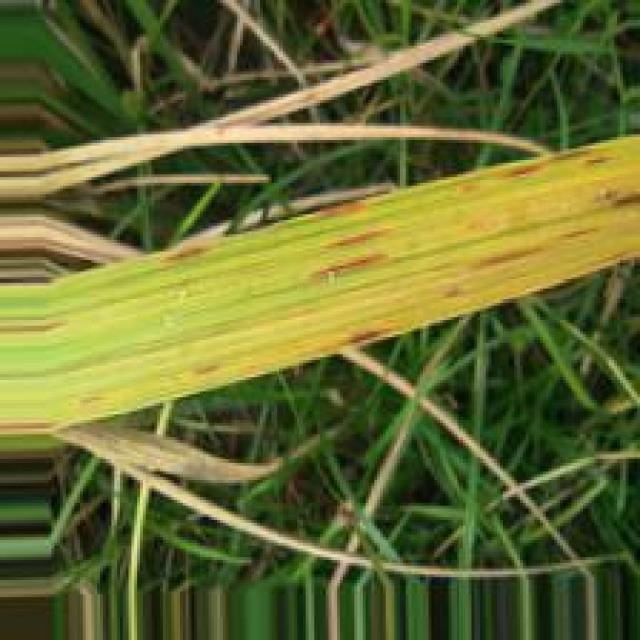Narrow_Brown_Leaf_Spot: (0, 132, 640, 429)
